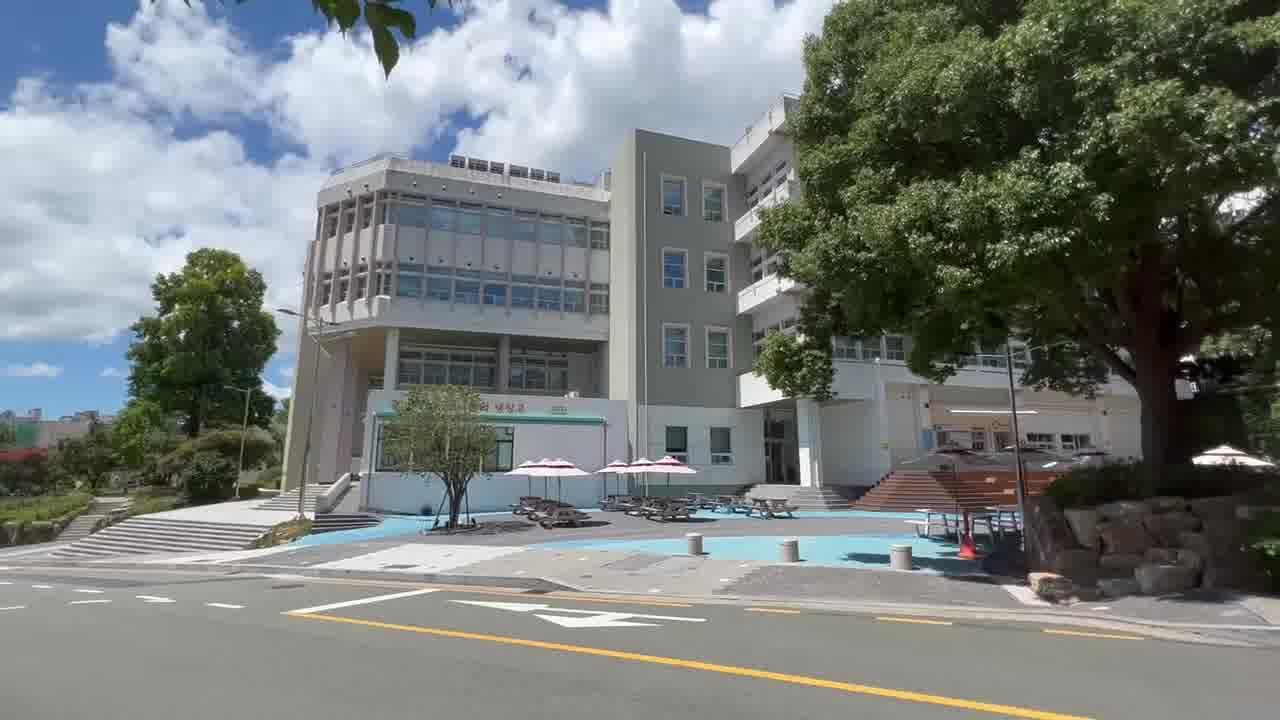building: (297, 111, 760, 468)
